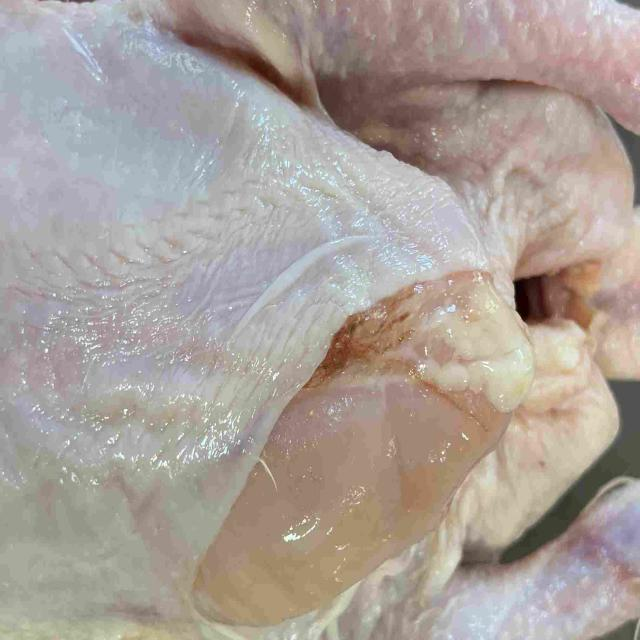breast: (0, 3, 526, 640)
leg: (194, 484, 640, 640), (132, 0, 640, 126)
